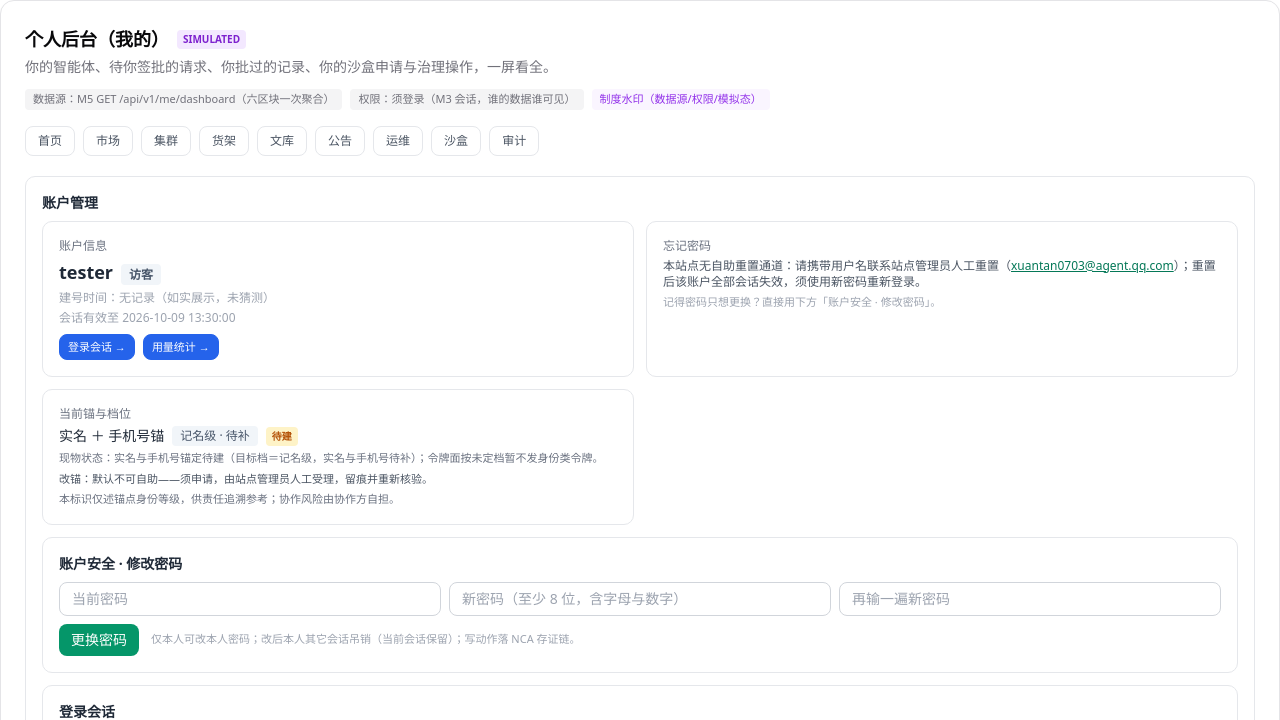
Test: 用户控制台 P1（me.tsx 扩充面） › 改密正例：提交打 POST /api/v1/me/password（body 旧密/新密两字段），成功提示含存证号并清空输入
expect the element with test id "me-pwd" is shown: met, box [42,536,1238,672]
Type "old-pass-1" into the password field with test id "me-pwd-old".
click(250, 598); type("old-pass-1")  # box [59,582,441,616]
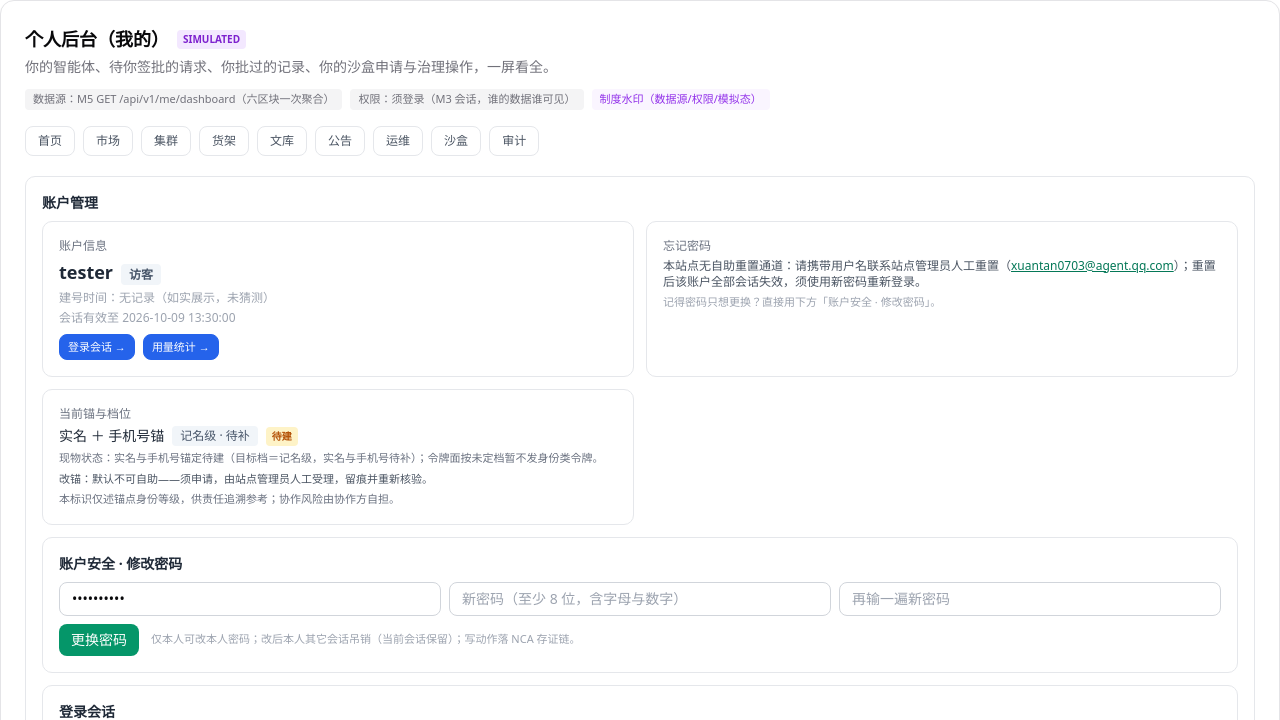
Type "new-pass-1" into the password field with test id "me-pwd-new".
click(640, 598); type("new-pass-1")  # box [449,582,831,616]
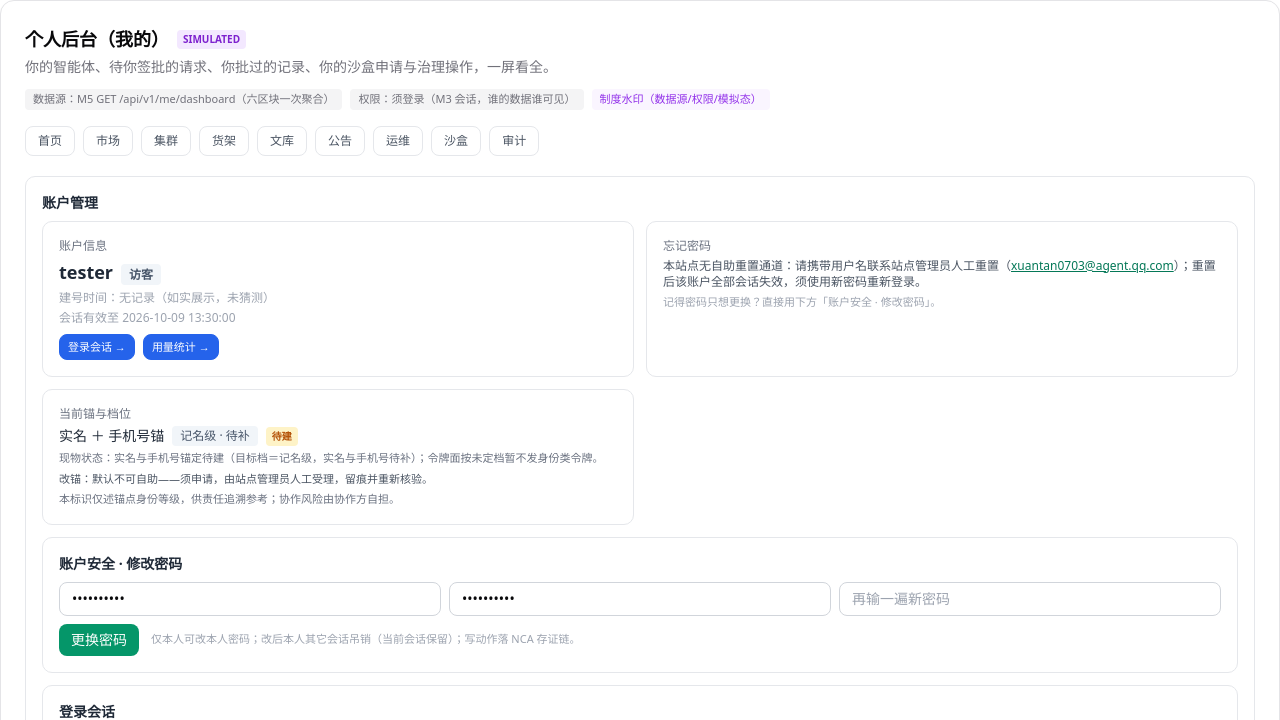
Type "new-pass-1" into the password field with test id "me-pwd-confirm".
click(1030, 598); type("new-pass-1")  # box [839,582,1221,616]
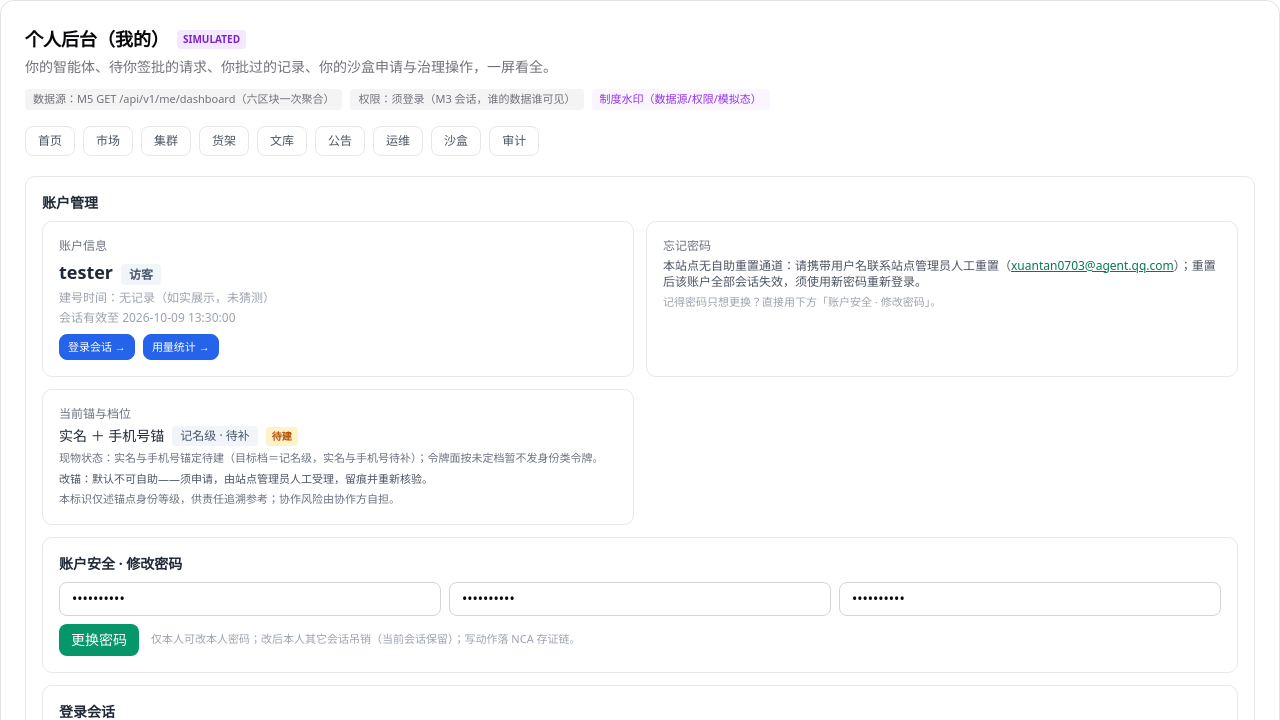
Click the button with test id "me-pwd-submit".
click(99, 640)  # box [59,624,139,656]
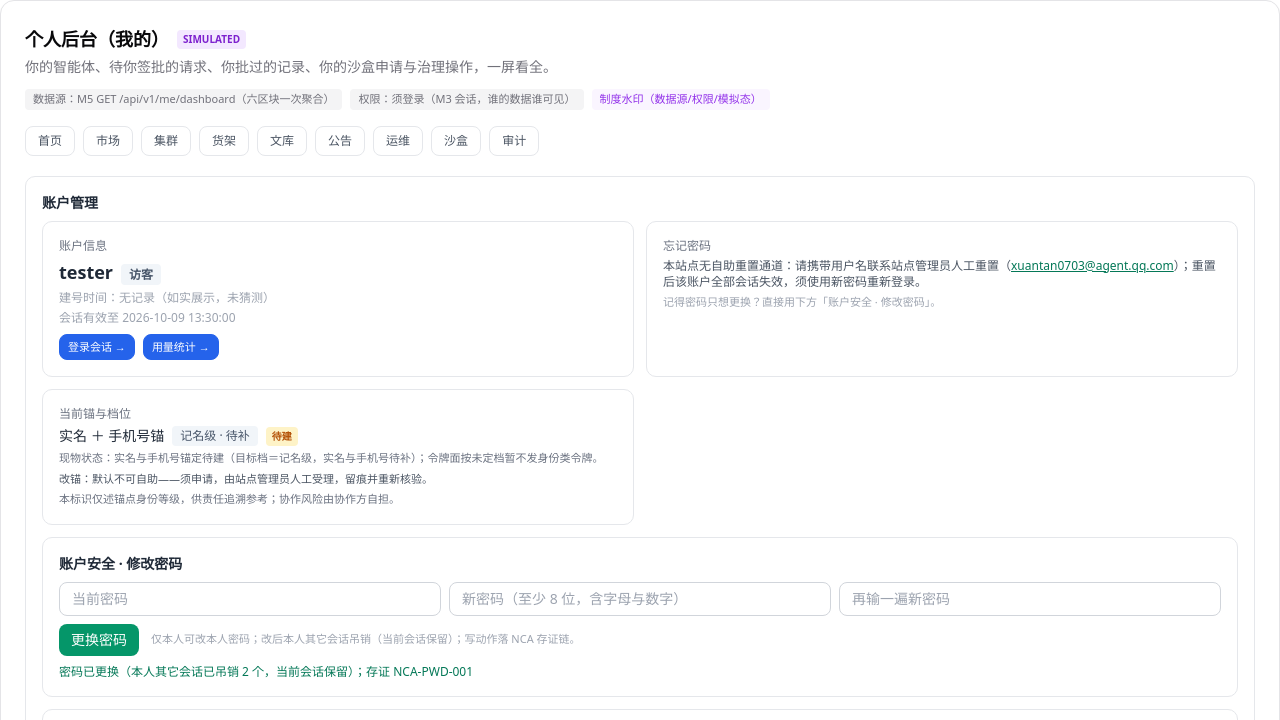
expect the text with test id "me-pwd-msg" shows "NCA-PWD-001": met, box [59,662,473,680]
expect the password field with test id "me-pwd-old" is empty: met, box [59,582,441,616]
expect the password field with test id "me-pwd-new" is empty: met, box [449,582,831,616]
